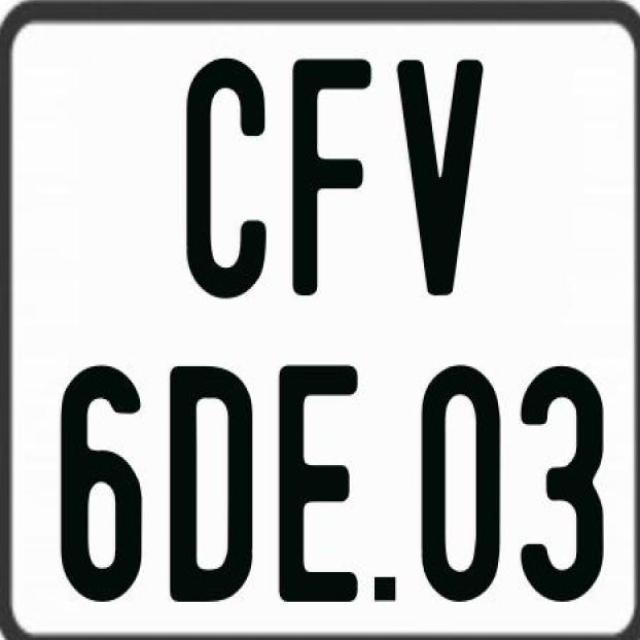license-plate: (9, 19, 631, 638)
